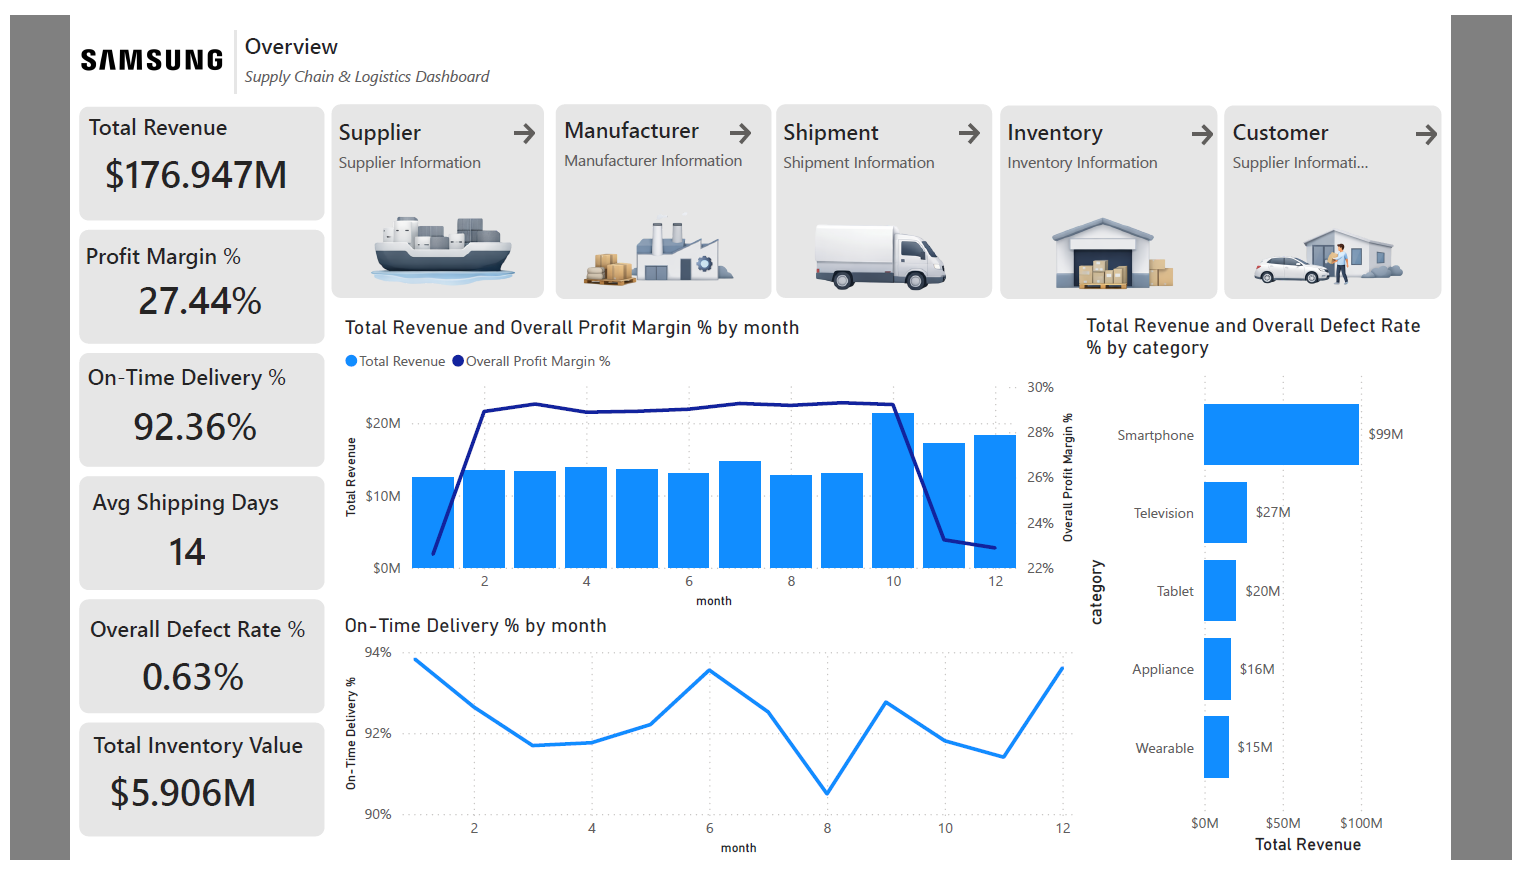

Layout of this report page (visuals, bound fields, positions):
{"tool":"powerbi","page":{"name":"Home","canvas":[1280,720],"ordinal":0},"visuals":[{"type":"shape","title":"Overview","box":[200.1,12.7,212.5,54.5],"z":0,"group":"g1"},{"type":"shape","box":[274.5,75.9,180.1,165.4],"z":0},{"type":"shape","box":[175.8,12.7,31.5,54.5],"z":1000,"group":"g1"},{"type":"actionButton","box":[424.7,88.3,80.5,25.8],"z":1000},{"type":"image","box":[50.6,7.8,133.3,59.4],"z":2000,"group":"g1"},{"type":"shape","title":"Supplier","box":[280.5,85.5,124.3,63.2],"z":2000},{"type":"image","box":[293.9,141.8,144.5,104],"z":3000},{"type":"shape","box":[465.2,76.5,184,165.4],"z":4000},{"type":"actionButton","box":[608.7,88.3,80.5,25.8],"z":5000},{"type":"shape","title":"Manufacturer","box":[471.6,85.2,168.4,72],"z":6000},{"type":"shape","box":[653.5,75.9,184,165.4],"z":7000},{"type":"actionButton","box":[803.7,88.4,80.5,25.8],"z":8000},{"type":"shape","title":"Shipment","box":[659.5,85.6,137.1,73.9],"z":9000},{"type":"shape","title":"Supplier","box":[850.9,83.9,120.8,35.2],"z":10000},{"type":"image","box":[474.7,148.8,146.9,95.3],"z":11000},{"type":"image","box":[675.6,158.7,127.9,85.5],"z":12000},{"type":"shape","box":[843.8,76.9,184.8,165.3],"z":13000},{"type":"shape","title":"Inventory","box":[850.1,85.6,136.2,68.1],"z":14000},{"type":"group","id":"g1","title":"Group 1","box":[50.6,7.8,362,59.4],"z":15000},{"type":"shape","box":[58.7,77.9,208.9,97.3],"z":16000},{"type":"shape","box":[58.7,182.9,208.9,97.3],"z":17000},{"type":"shape","box":[58.7,287.9,208.9,97.3],"z":18000},{"type":"shape","box":[58.7,392.9,208.9,97.3],"z":19000},{"type":"shape","box":[58.7,498,208.9,97.3],"z":20000},{"type":"shape","box":[58.7,603,208.9,97.3],"z":21000},{"type":"shape","box":[1229.4,0,50.6,719.8],"z":22000},{"type":"shape","box":[0,0,50.6,719.8],"z":23000},{"type":"actionButton","box":[1002.9,88.3,25.6,26.2],"z":24000},{"type":"shape","title":"Supplier","box":[1042,84.1,120.8,35.2],"z":25000},{"type":"shape","box":[1034.9,77.2,184.8,165.3],"z":26000},{"type":"image","box":[1055,152,144.5,103.7],"z":27000},{"type":"shape","title":"Customer","box":[1041.6,85.8,121.2,68],"z":28000},{"type":"actionButton","box":[1194,88.6,25.6,26.2],"z":29000},{"type":"image","box":[883.2,148.8,119.6,100.2],"z":30000},{"type":"cardVisual","fields":{"Data":["_Key Measures.Total Revenue"]},"box":[50.9,88.8,216.5,86.8],"z":31000},{"type":"shape","title":"Total Revenue","box":[66.8,81.8,200.5,62.9],"z":32000},{"type":"cardVisual","fields":{"Data":["_Key Measures.Overall Profit Margin %"]},"box":[79.8,196.5,190.6,86.8],"z":33000},{"type":"shape","title":"Profit Margin %","box":[63.9,191.6,200.5,62.9],"z":34000},{"type":"cardVisual","fields":{"Data":["_Key Measures.On-Time Delivery %"]},"box":[75.8,304.3,216.5,86.8],"z":35000},{"type":"shape","title":"On-Time Delivery %","box":[65.9,295.3,200.5,62.9],"z":36000},{"type":"cardVisual","fields":{"Data":["_Key Measures.Avg Shipping Days"]},"box":[105.8,411,115.7,86.8],"z":37000},{"type":"shape","title":"Avg Shipping Days","box":[69.9,402.1,200.5,62.9],"z":38000},{"type":"cardVisual","fields":{"Data":["_Key Measures.Overall Defect Rate %"]},"box":[83.2,517.3,167.4,86.2],"z":39000},{"type":"shape","title":"Overall Defect Rate %","box":[67.9,509.8,200.5,62.9],"z":40000},{"type":"cardVisual","fields":{"Data":["_Key Measures.Total Inventory Value"]},"box":[54.9,615.6,216.5,86.8],"z":41000},{"type":"shape","title":"Total Inventory Value","box":[70.9,608.6,200.5,62.9],"z":42000},{"type":"lineClusteredColumnComboChart","fields":{"Y":["_Key Measures.Total Revenue"],"Category":["dim_date.month"],"Y2":["_Key Measures.Overall Profit Margin %"]},"box":[279.9,255.6,631.9,254.6],"z":43000},{"type":"clusteredBarChart","fields":{"Category":["dim_product.category"],"Y":["_Key Measures.Total Revenue"]},"box":[911.8,254.5,307.3,465.5],"z":44000},{"type":"lineChart","fields":{"Category":["dim_date.month"],"Y":["_Key Measures.On-Time Delivery %"]},"box":[279.9,510,631.9,210],"z":45000}]}

Visuals, with their boxes in screenshot pixels (x1, y1, x2, y2), scaled from the page's 1280x720 canvas onto the 1521x874 screenshot:
"Overview" shape: l=238, t=15, r=490, b=82
shape: l=326, t=92, r=540, b=293
shape: l=209, t=15, r=246, b=82
actionButton: l=505, t=107, r=600, b=139
image: l=60, t=9, r=219, b=82
"Supplier" shape: l=333, t=104, r=481, b=181
image: l=349, t=172, r=521, b=298
shape: l=553, t=93, r=771, b=294
actionButton: l=723, t=107, r=819, b=139
"Manufacturer" shape: l=560, t=103, r=760, b=191
shape: l=777, t=92, r=995, b=293
actionButton: l=955, t=107, r=1051, b=139
"Shipment" shape: l=784, t=104, r=947, b=194
"Supplier" shape: l=1011, t=102, r=1155, b=145
image: l=564, t=181, r=739, b=296
image: l=803, t=193, r=955, b=296
shape: l=1003, t=93, r=1222, b=294
"Inventory" shape: l=1010, t=104, r=1172, b=187
"Group 1" group: l=60, t=9, r=490, b=82
shape: l=70, t=95, r=318, b=213
shape: l=70, t=222, r=318, b=340
shape: l=70, t=349, r=318, b=468
shape: l=70, t=477, r=318, b=595
shape: l=70, t=605, r=318, b=723
shape: l=70, t=732, r=318, b=850
shape: l=1461, t=0, r=1520, b=873
shape: l=0, t=0, r=60, b=873
actionButton: l=1192, t=107, r=1222, b=139
"Supplier" shape: l=1238, t=102, r=1382, b=145
shape: l=1230, t=94, r=1449, b=294
image: l=1254, t=185, r=1425, b=310
"Customer" shape: l=1238, t=104, r=1382, b=187
actionButton: l=1419, t=108, r=1449, b=139
image: l=1049, t=181, r=1192, b=302
cardVisual - _Key Measures.Total Revenue: l=60, t=108, r=318, b=213
"Total Revenue" shape: l=79, t=99, r=318, b=176
cardVisual - _Key Measures.Overall Profit Margin %: l=95, t=239, r=321, b=344
"Profit Margin %" shape: l=76, t=233, r=314, b=309
cardVisual - _Key Measures.On-Time Delivery %: l=90, t=369, r=347, b=475
"On-Time Delivery %" shape: l=78, t=358, r=317, b=435
cardVisual - _Key Measures.Avg Shipping Days: l=126, t=499, r=263, b=604
"Avg Shipping Days" shape: l=83, t=488, r=321, b=564
cardVisual - _Key Measures.Overall Defect Rate %: l=99, t=628, r=298, b=733
"Overall Defect Rate %" shape: l=81, t=619, r=319, b=695
cardVisual - _Key Measures.Total Inventory Value: l=65, t=747, r=322, b=853
"Total Inventory Value" shape: l=84, t=739, r=322, b=815
lineClusteredColumnComboChart - _Key Measures.Total Revenue x dim_date.month: l=333, t=310, r=1083, b=619
clusteredBarChart - dim_product.category x _Key Measures.Total Revenue: l=1083, t=309, r=1449, b=873
lineChart - dim_date.month x _Key Measures.On-Time Delivery %: l=333, t=619, r=1083, b=873
